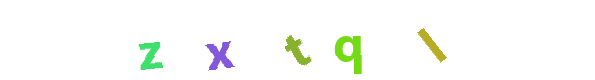L: (320, 0, 400, 80)
Q: (310, 0, 390, 80)
T: (257, 0, 337, 80)
X: (179, 0, 259, 80)
Z: (110, 0, 190, 80)
